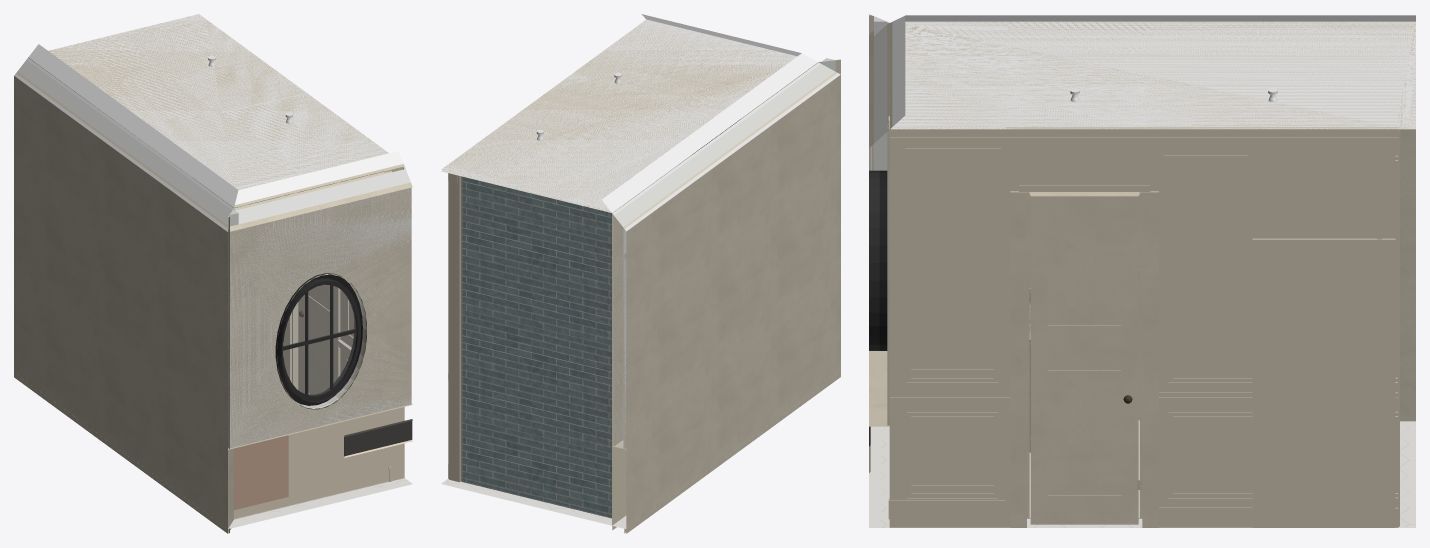
File: blue-bath-e9eed2305457.glb
3 views of the same model, side by side, from view 1: azimuth 30°, elevation 25°; view 2: azimuth 150°, elevation 25°; view 3: azimuth 270°, elevation 25° (orthographic). The views are drawn at different scales.
Parts seen in each view (by area): view 1: blue-bath-312b4ac1be39223d, blue-bath-bddaf205afbd60c0, blue-bath-e8793759323e04f0, blue-bath-9d91b47435c6fb33, blue-bath-33ee0b466567e5f0, blue-bath-df3e1f21720b0c39, blue-bath-d227da791438a32f, blue-bath-2f7d8eff34a2c180, blue-bath-39b94aca90fa4b53, blue-bath-bb2a37e95c56944b, blue-bath-bf159a19de53e60e, blue-bath-64753ebcb3824a84 (+7 smaller); view 2: blue-bath-312b4ac1be39223d, blue-bath-81319d6284883901, blue-bath-9d91b47435c6fb33, blue-bath-e8793759323e04f0, blue-bath-33ee0b466567e5f0, blue-bath-39b94aca90fa4b53, blue-bath-ed5fdcd3ee9c0dd5, blue-bath-3a4d9d62ecd7be1c, blue-bath-6e269356ae8bfd70, blue-bath-0e16aad907f7d881, blue-bath-6852ef8a5e690845; view 3: blue-bath-9d91b47435c6fb33, blue-bath-ed5fdcd3ee9c0dd5, blue-bath-ead09a0b3f9e3bd9, blue-bath-bf159a19de53e60e, blue-bath-3e649b0d114ae387, blue-bath-e8793759323e04f0, blue-bath-8798d08755b4aa77, blue-bath-8f5d8501f6e548f5, blue-bath-6e269356ae8bfd70, blue-bath-0e16aad907f7d881, blue-bath-d8e4d1e2b1f6ec6c, blue-bath-d227da791438a32f (+18 smaller).
Part boxes in pixels (<box>): blue-bath-312b4ac1be39223d: <box>14,73,229,449</box>; blue-bath-bddaf205afbd60c0: <box>230,182,411,447</box>; blue-bath-e8793759323e04f0: <box>30,14,403,204</box>; blue-bath-9d91b47435c6fb33: <box>28,14,404,207</box>; blue-bath-33ee0b466567e5f0: <box>14,293,228,533</box>; blue-bath-df3e1f21720b0c39: <box>229,184,412,448</box>; blue-bath-d227da791438a32f: <box>275,273,366,409</box>; blue-bath-2f7d8eff34a2c180: <box>228,404,412,533</box>; blue-bath-39b94aca90fa4b53: <box>17,60,238,226</box>; blue-bath-bb2a37e95c56944b: <box>234,435,288,509</box>; blue-bath-bf159a19de53e60e: <box>298,183,335,394</box>; blue-bath-64753ebcb3824a84: <box>235,169,410,407</box>; blue-bath-312b4ac1be39223d: <box>624,59,840,449</box>; blue-bath-81319d6284883901: <box>462,176,611,518</box>; blue-bath-9d91b47435c6fb33: <box>441,19,817,212</box>; blue-bath-e8793759323e04f0: <box>442,14,815,210</box>; blue-bath-33ee0b466567e5f0: <box>612,293,840,533</box>; blue-bath-39b94aca90fa4b53: <box>614,58,835,447</box>; blue-bath-ed5fdcd3ee9c0dd5: <box>449,173,460,482</box>; blue-bath-3a4d9d62ecd7be1c: <box>612,61,821,446</box>; blue-bath-6e269356ae8bfd70: <box>441,170,618,524</box>; blue-bath-0e16aad907f7d881: <box>441,478,626,528</box>; blue-bath-6852ef8a5e690845: <box>623,59,837,448</box>; blue-bath-9d91b47435c6fb33: <box>890,21,1415,129</box>; blue-bath-ed5fdcd3ee9c0dd5: <box>1005,127,1399,526</box>; blue-bath-ead09a0b3f9e3bd9: <box>1252,238,1395,527</box>; blue-bath-bf159a19de53e60e: <box>1030,195,1138,524</box>; blue-bath-3e649b0d114ae387: <box>889,121,1005,499</box>; blue-bath-e8793759323e04f0: <box>892,15,1415,126</box>; blue-bath-8798d08755b4aa77: <box>1010,191,1158,527</box>; blue-bath-8f5d8501f6e548f5: <box>889,129,1398,146</box>; blue-bath-6e269356ae8bfd70: <box>1398,127,1415,527</box>; blue-bath-0e16aad907f7d881: <box>869,421,1415,527</box>; blue-bath-d8e4d1e2b1f6ec6c: <box>906,156,998,382</box>; blue-bath-d227da791438a32f: <box>869,170,887,350</box>.
Bounding box in the file's own units: 1.8 × 3.04 × 3.6.
Materials: 29 (6 with a texture image).
